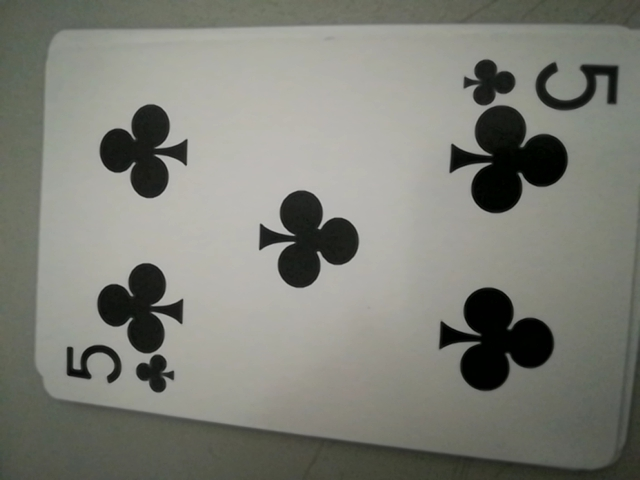mh 5: (459, 51, 614, 113), (56, 340, 184, 403)
